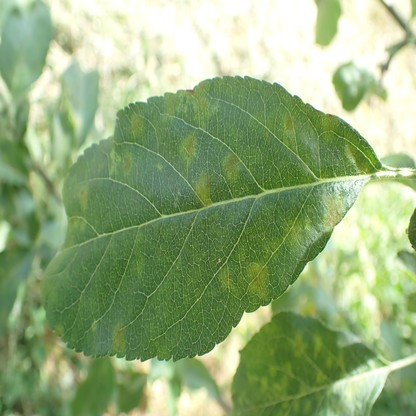scab: (240, 332, 359, 416), (164, 80, 217, 129), (248, 262, 269, 298), (322, 189, 341, 224), (195, 170, 212, 205), (179, 134, 196, 163), (113, 321, 127, 354), (284, 221, 300, 248), (323, 113, 338, 141), (222, 154, 238, 179), (220, 267, 235, 292), (130, 111, 144, 136), (282, 114, 294, 142), (78, 183, 89, 210), (344, 140, 357, 160), (122, 150, 132, 176), (356, 161, 369, 175), (53, 323, 65, 338), (304, 216, 312, 231), (79, 219, 86, 232), (92, 320, 97, 333), (72, 217, 78, 227), (157, 163, 163, 171)
